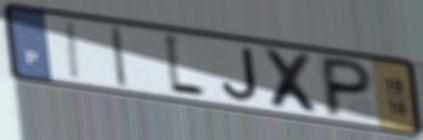I: (107, 23, 130, 90), (65, 19, 84, 84)
J: (219, 46, 262, 104)
L: (161, 31, 208, 102)
P: (322, 54, 376, 120)
X: (260, 45, 326, 118)
